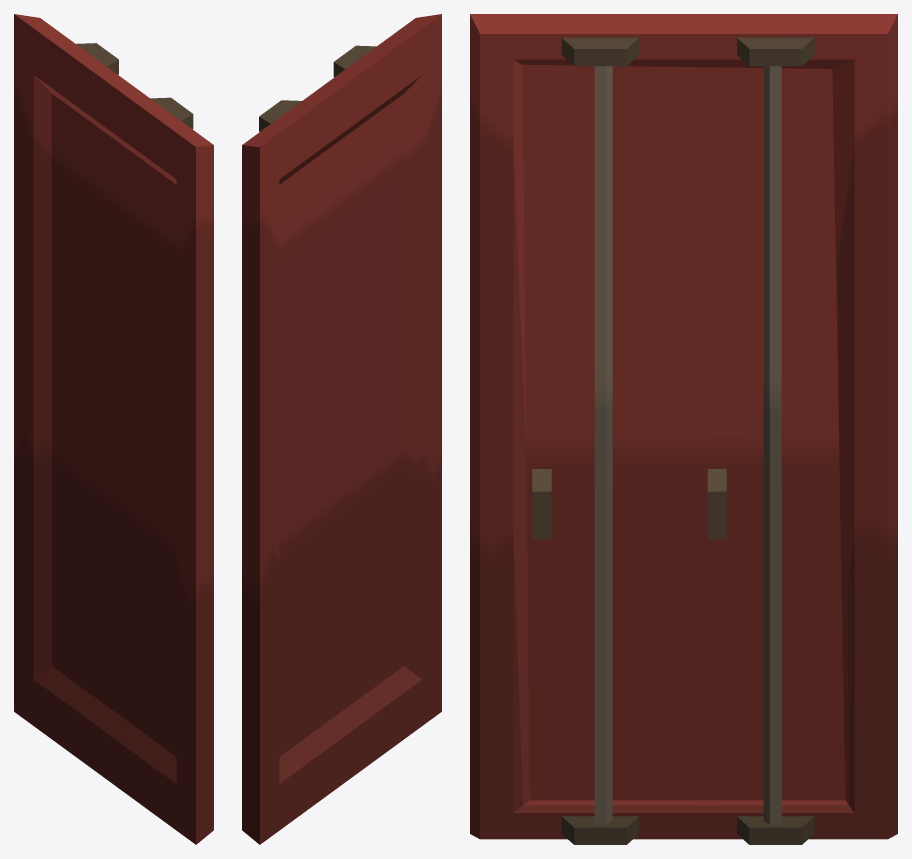
The model's file is SM_Prop_Container_01_Door_FR.obj.
3 renders of one model, left to right at view 1: azimuth 30°, elevation 25°; view 2: azimuth 150°, elevation 25°; view 3: azimuth 270°, elevation 25°, orthographic. The views are drawn at different scales.
Visible parts, largest first — view 1: SM_Prop_Container_01_Door_FR_0; view 2: SM_Prop_Container_01_Door_FR_0; view 3: SM_Prop_Container_01_Door_FR_0.
Part boxes in pixels (x1,y1,x2,y2): SM_Prop_Container_01_Door_FR_0: [14, 14, 213, 844]; SM_Prop_Container_01_Door_FR_0: [242, 14, 441, 844]; SM_Prop_Container_01_Door_FR_0: [470, 14, 897, 844].
Bounding box in the file's own units: 0.1416 × 2.27 × 1.07.
Materials: 1 (1 with a texture image).
